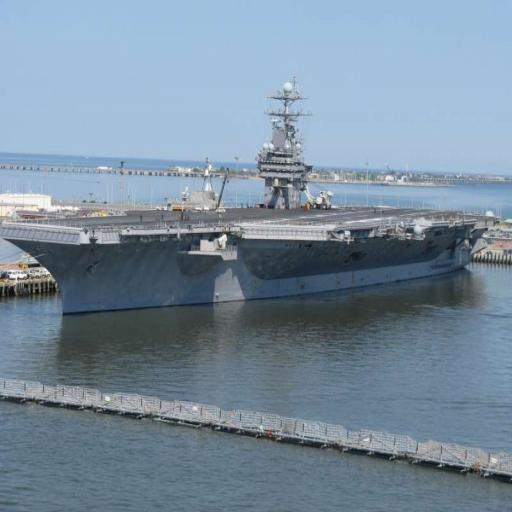Portanaves: (3, 79, 503, 322)
